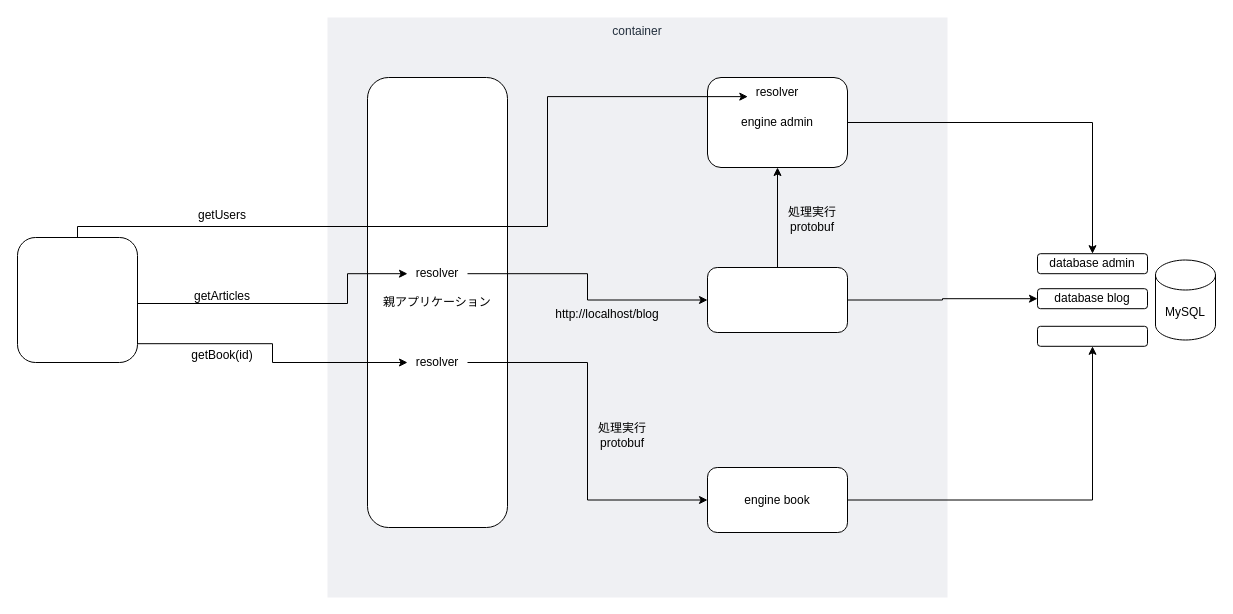
Some shapes in this 1233 by 614 pixel diagram are drawn without their labels. Here are the shapes that lost their labels. From the top down, the box of each, then its label:
(16, 236, 138, 362): graphiql
(706, 266, 848, 332): engine blog
(1036, 325, 1148, 346): database book
